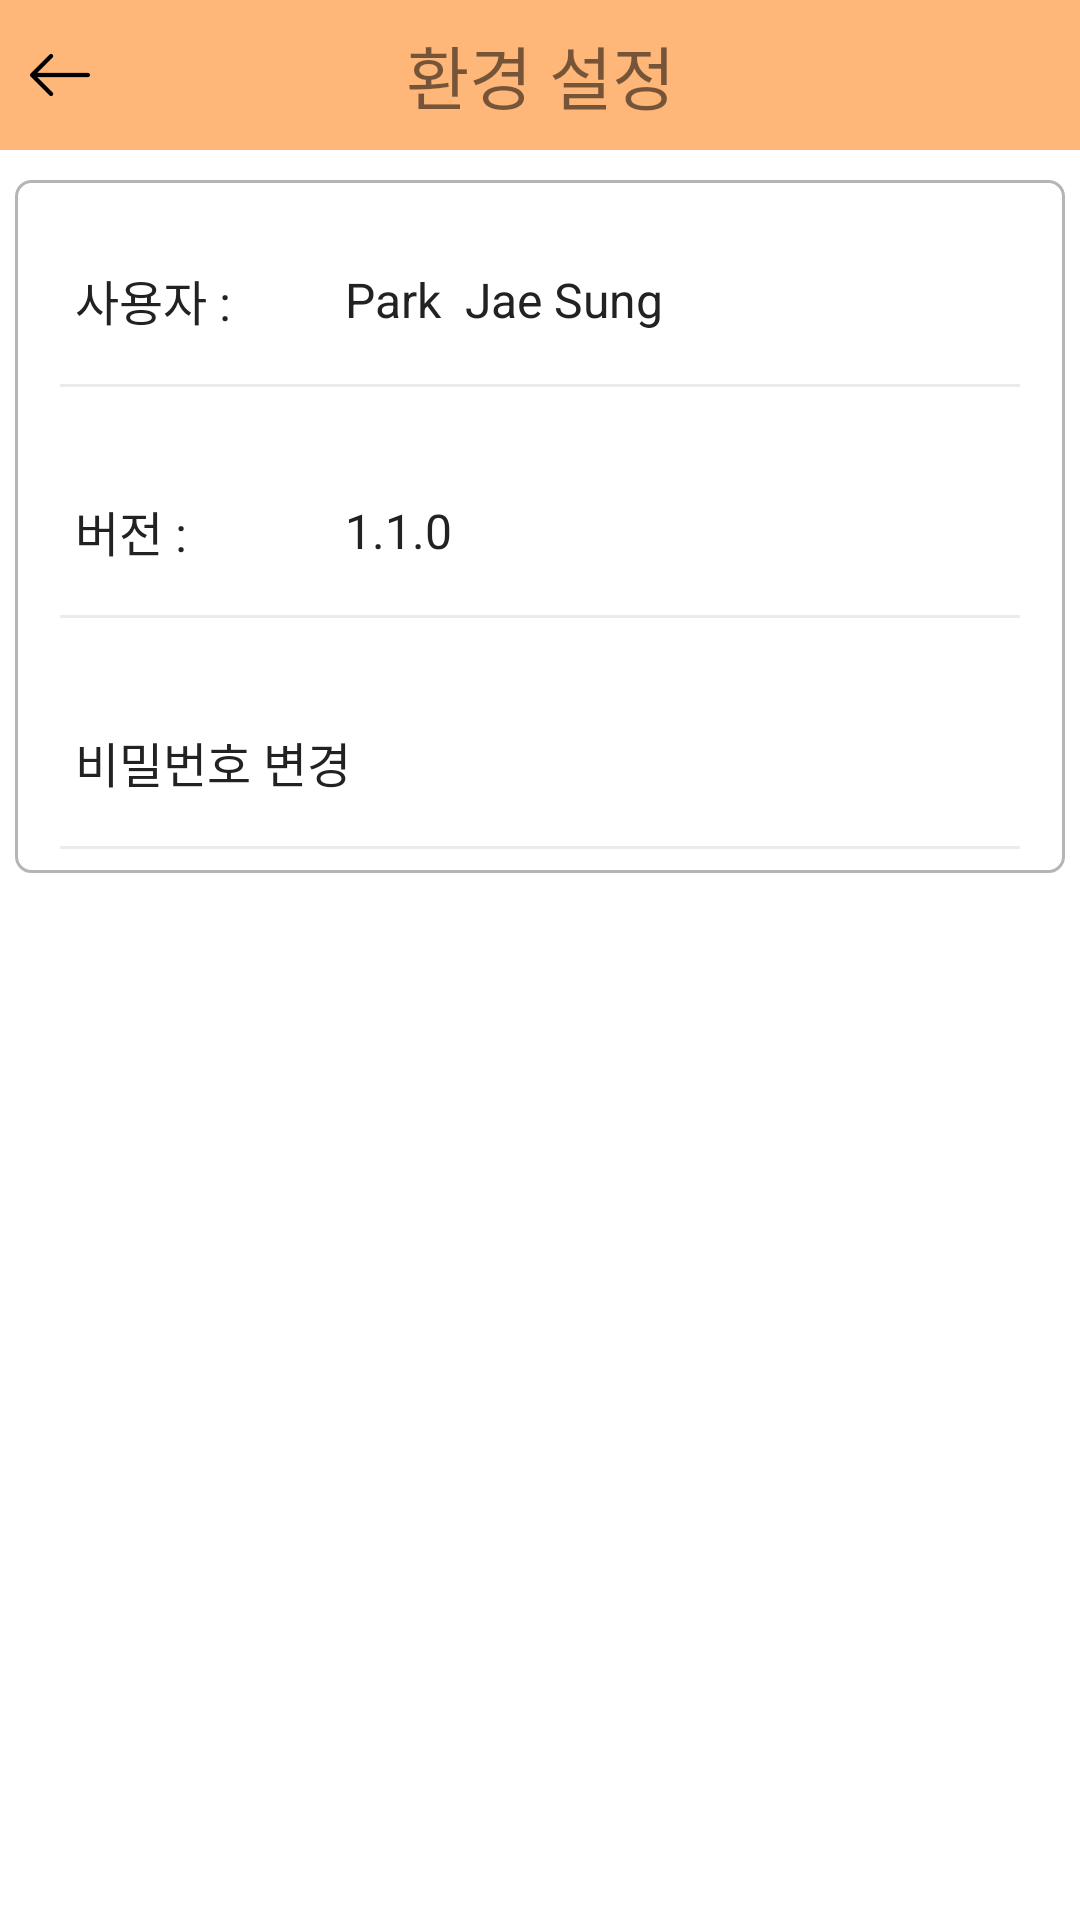

Icon bounding boxes for this 1080x1920 phone screenshot, format (x1, y1, x2, y2):
back arrow: (30, 54, 90, 96)
